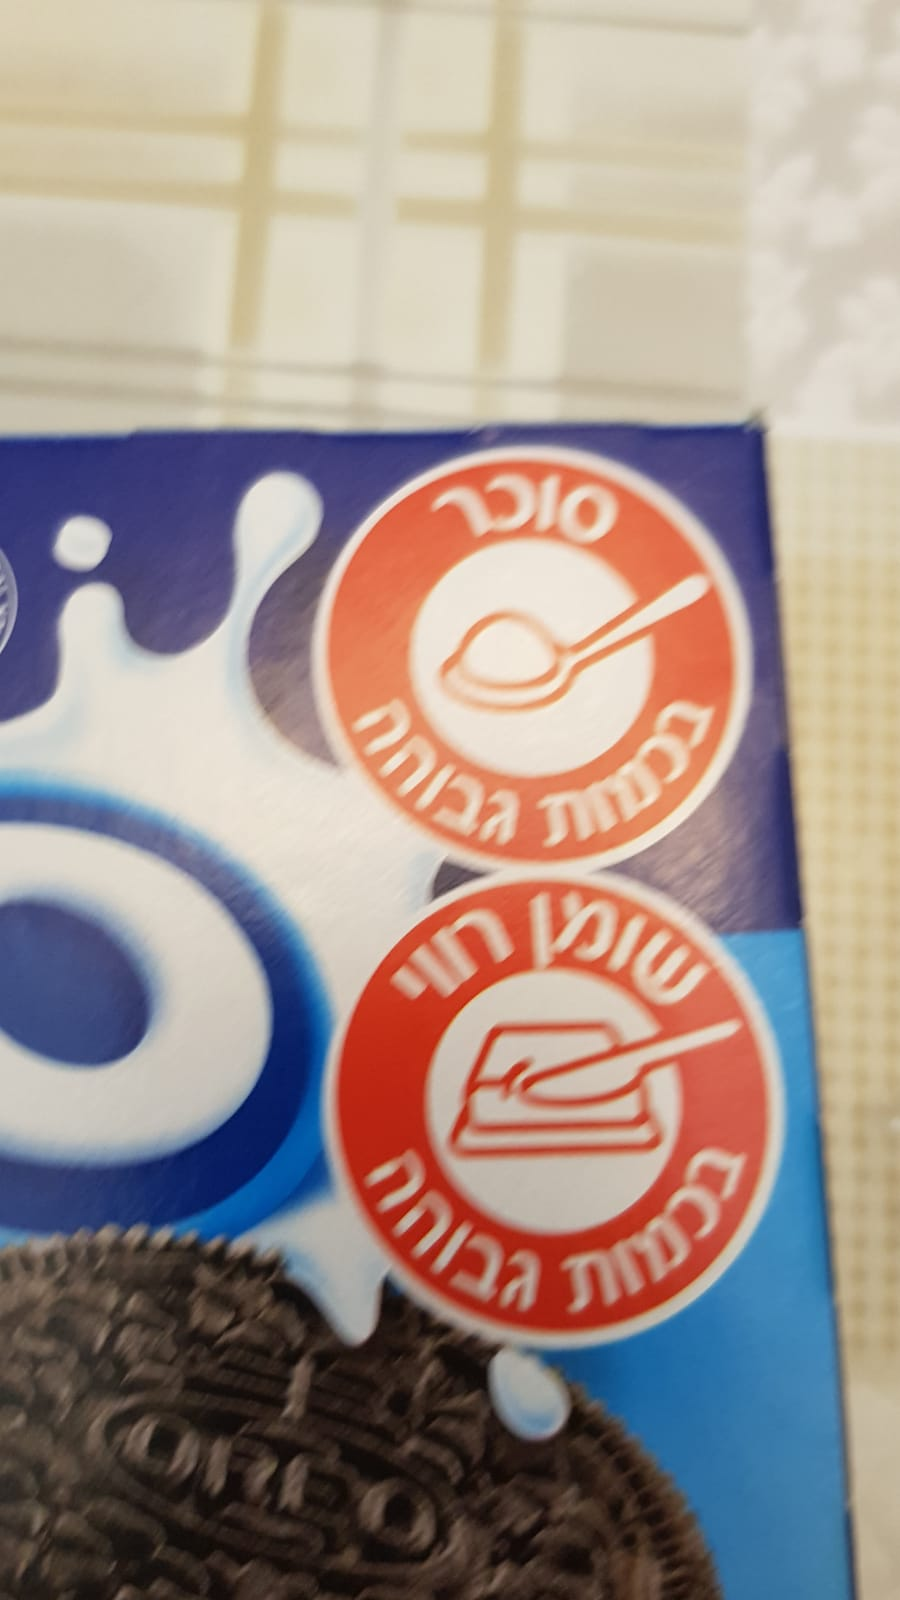fat: (316, 870, 796, 1341)
sugar: (312, 445, 759, 876)
